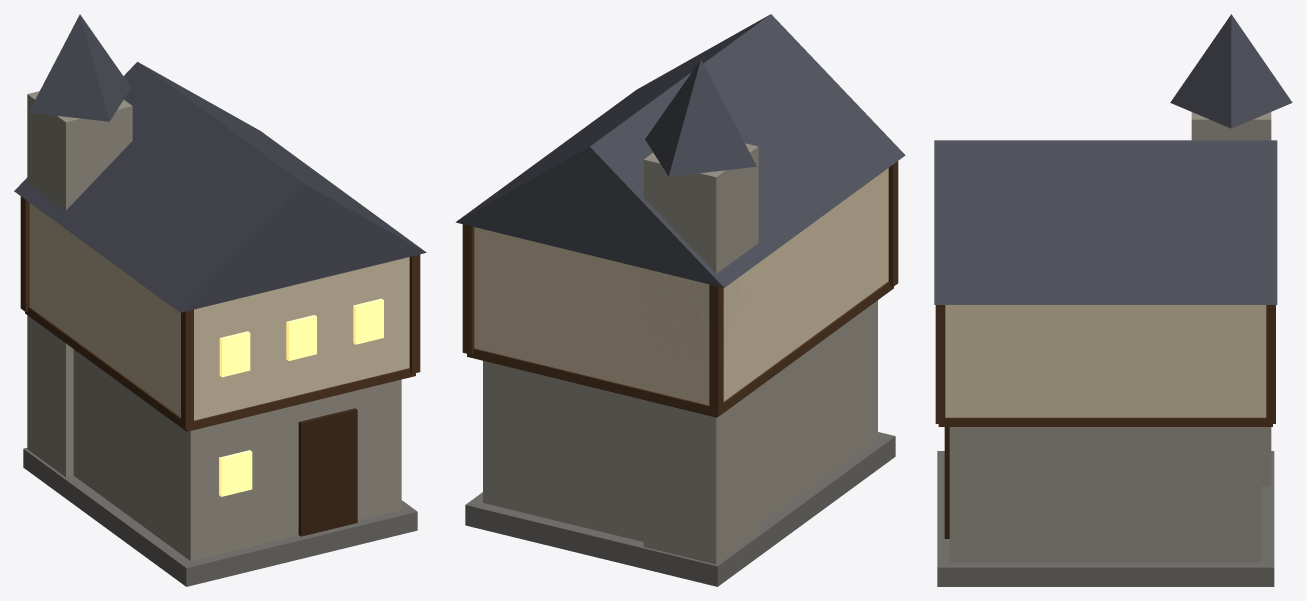
Rendered from manor.glb.
The picture shows the model from 3 angles, left to right: view 1: azimuth 30°, elevation 25°; view 2: azimuth 150°, elevation 25°; view 3: azimuth 270°, elevation 25°; orthographic projection. The views are drawn at different scales.
Parts seen in each view (by area): view 1: manor; view 2: manor; view 3: manor.
Part boxes in pixels (left/top/right/bottom): manor: left=14, top=14, right=426, bottom=586; manor: left=455, top=14, right=905, bottom=586; manor: left=934, top=14, right=1292, bottom=586.
Bounding box in the file's own units: 4.95 × 8.55 × 5.85.
